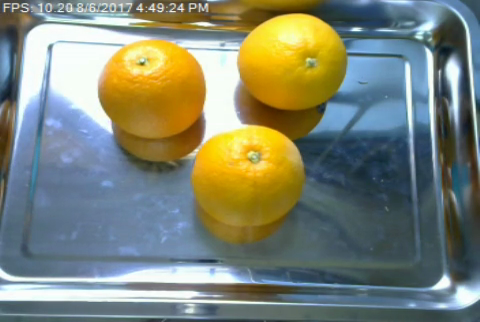Orange: (190, 123, 305, 225), (235, 11, 347, 110), (98, 40, 205, 137)
